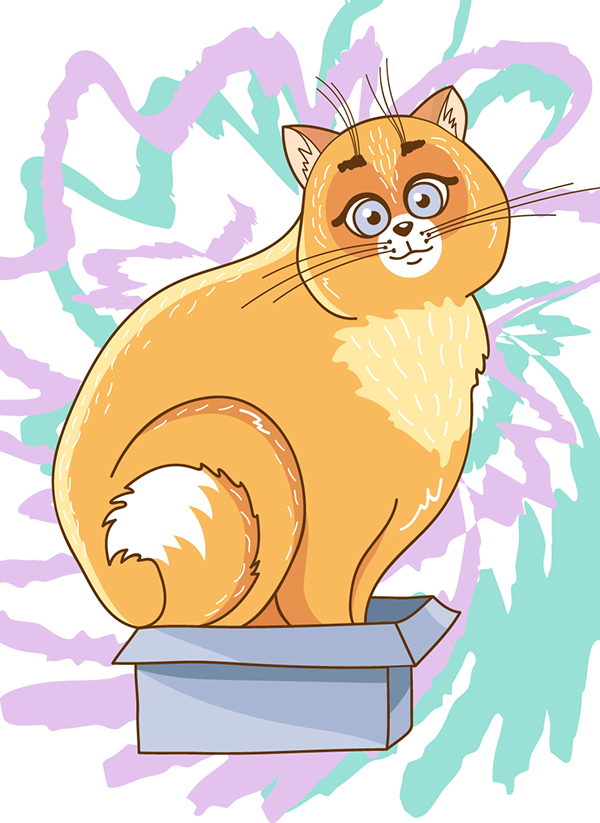cat: (9, 90, 547, 633)
